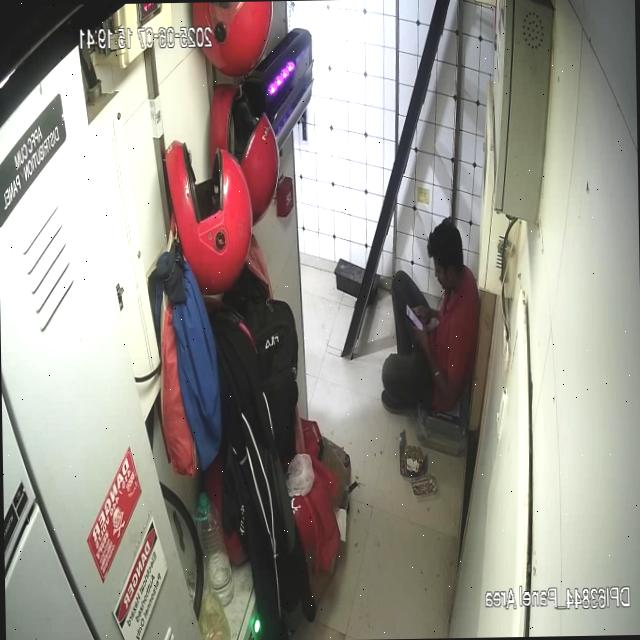helmet: (164, 138, 251, 298), (209, 84, 280, 229)
